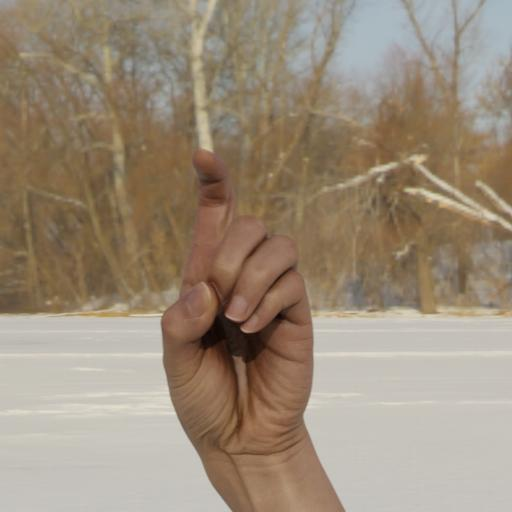X: (130, 126, 334, 453)
